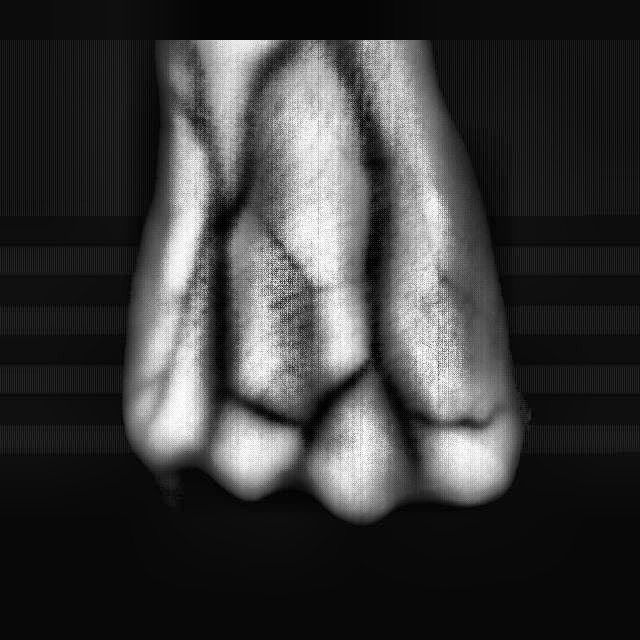Vein: (359, 159, 395, 347), (206, 162, 234, 348)
